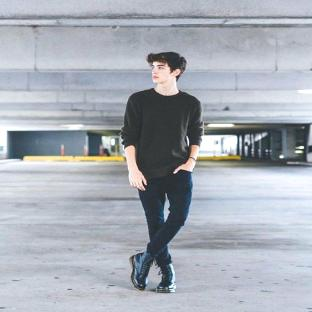Human: (120, 52, 204, 292)
